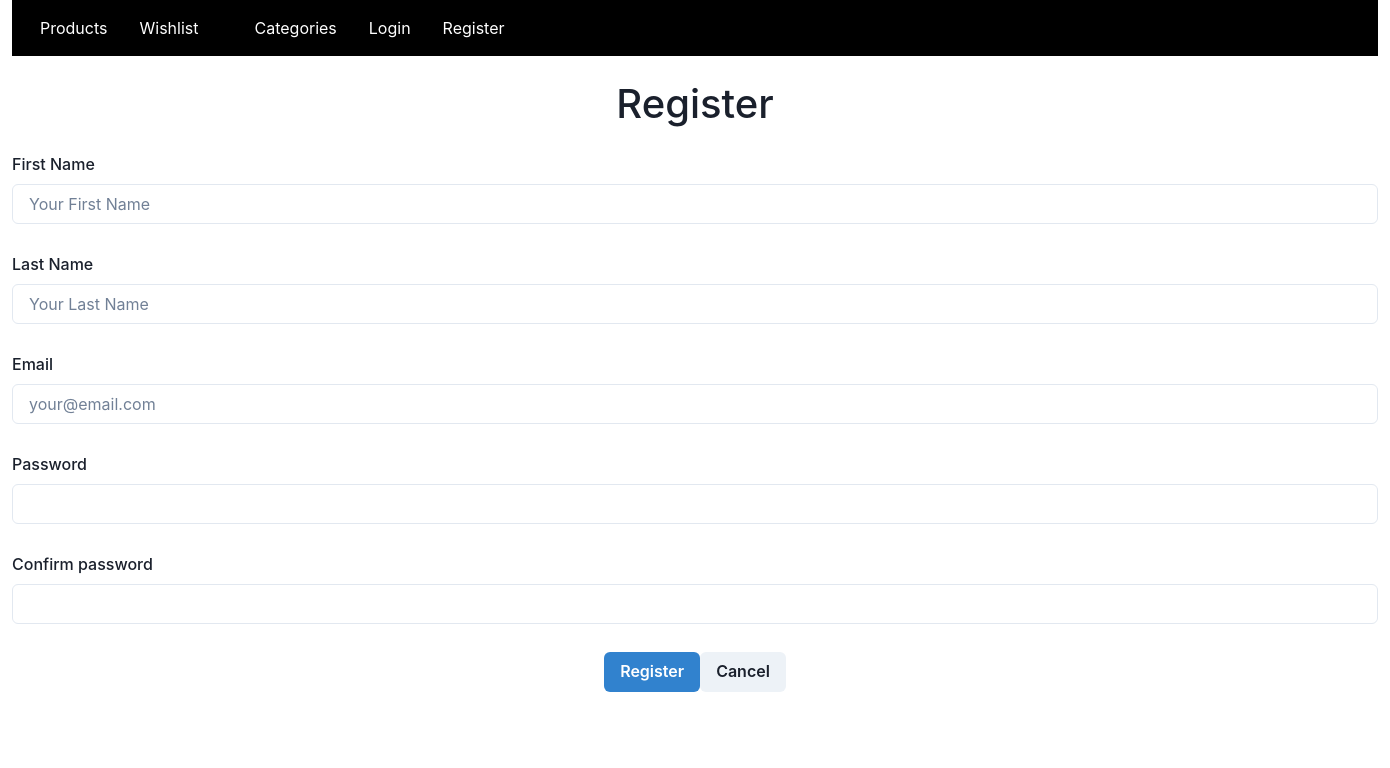
Test: Register › should throw error when user exists
Type "Test" into the field with test id "register_firstName".
click(695, 204); type("Test")  # box top-left (12, 184), bottom-right (1378, 224)
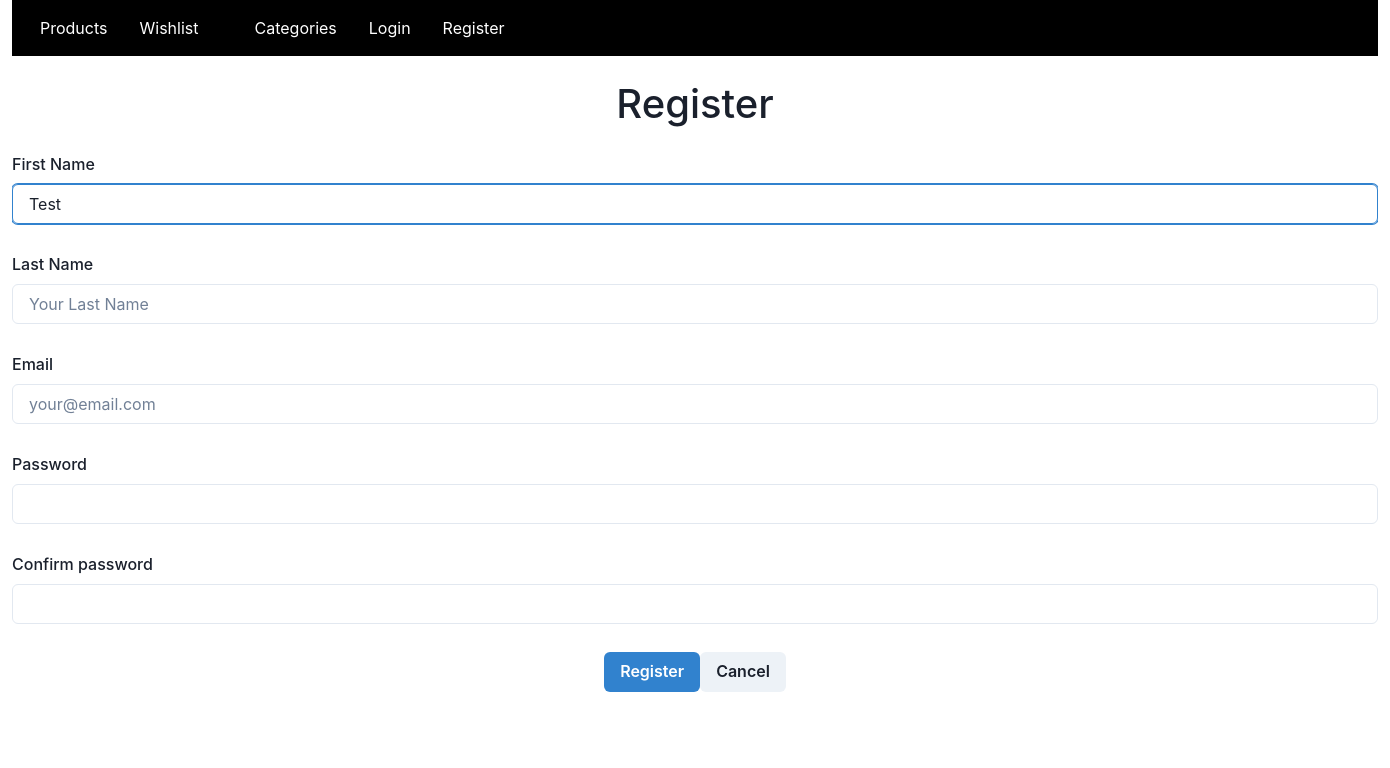
Type "User" into the field with test id "register_lastName".
click(695, 304); type("User")  # box top-left (12, 284), bottom-right (1378, 324)
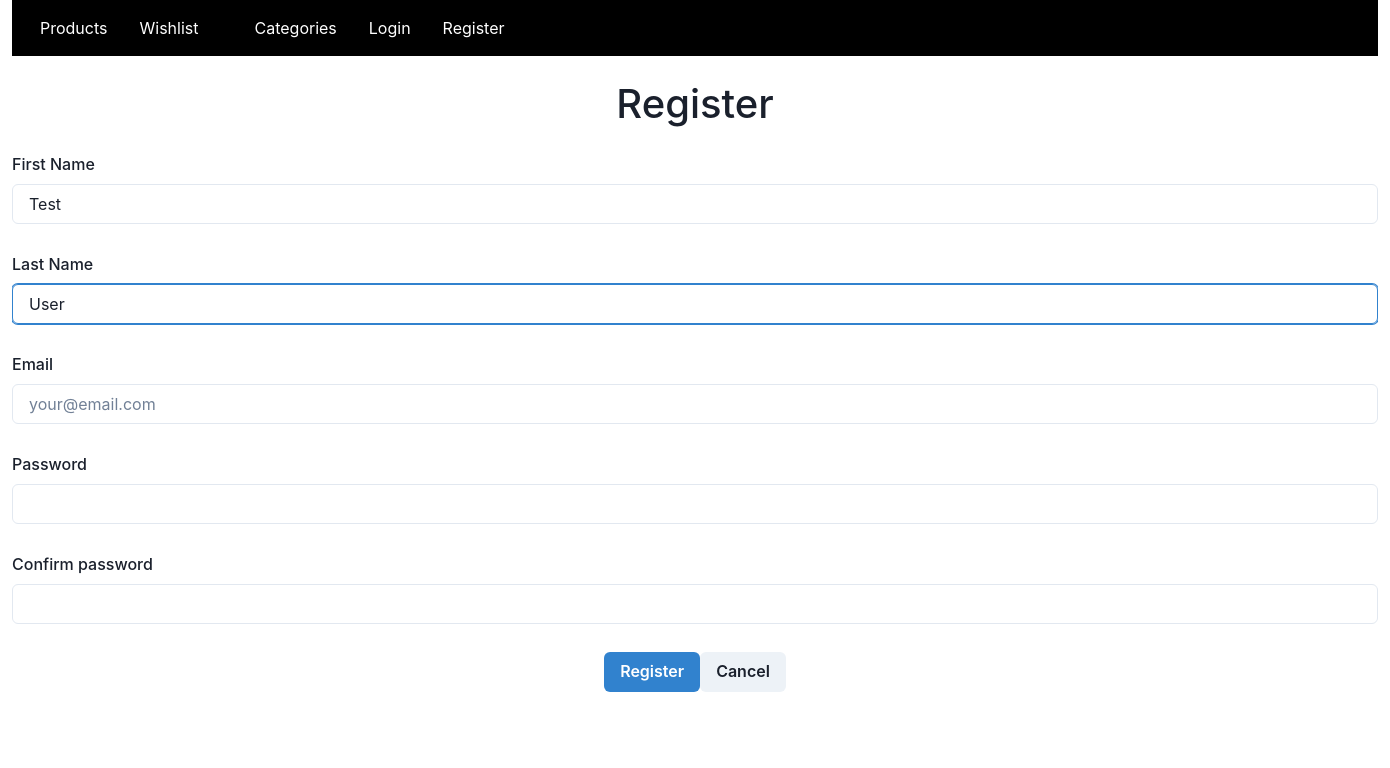
Type "david.deridder@student.hogent.be" into the field with test id "register_email".
click(695, 404); type("david.deridder@student.hogent.be")  # box top-left (12, 384), bottom-right (1378, 424)
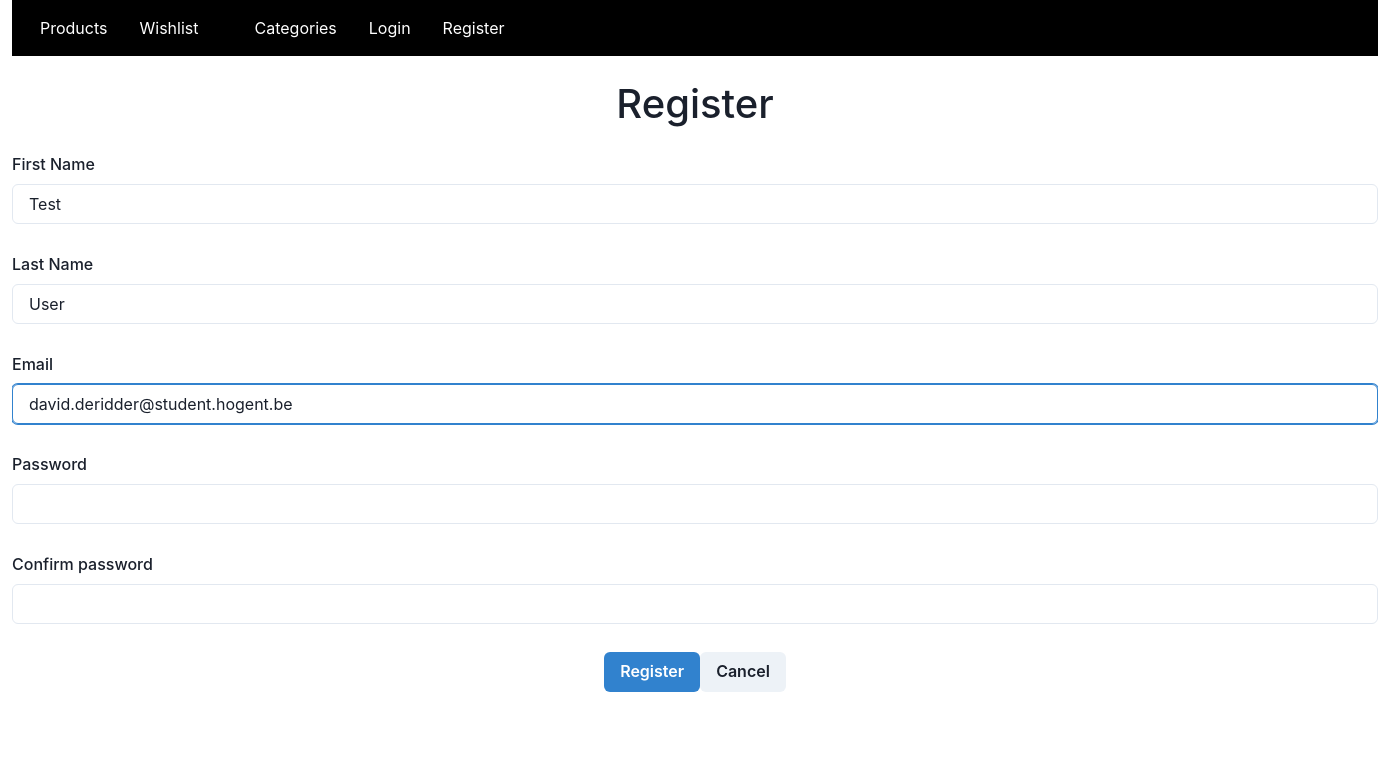
Type "12345678" into the password field with test id "register_password".
click(695, 504); type("12345678")  # box top-left (12, 484), bottom-right (1378, 524)
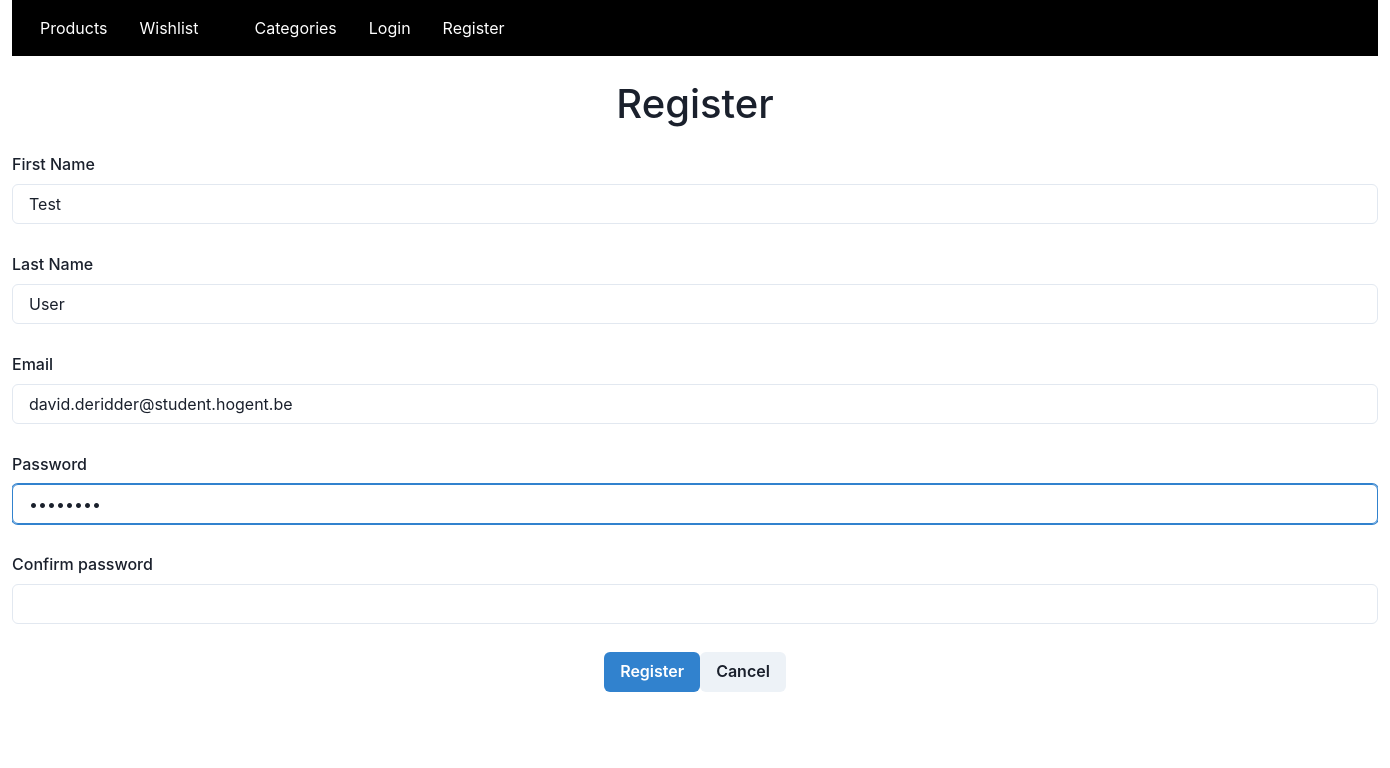
Type "12345678" into the password field with test id "register_confirm_password".
click(695, 604); type("12345678")  # box top-left (12, 584), bottom-right (1378, 624)
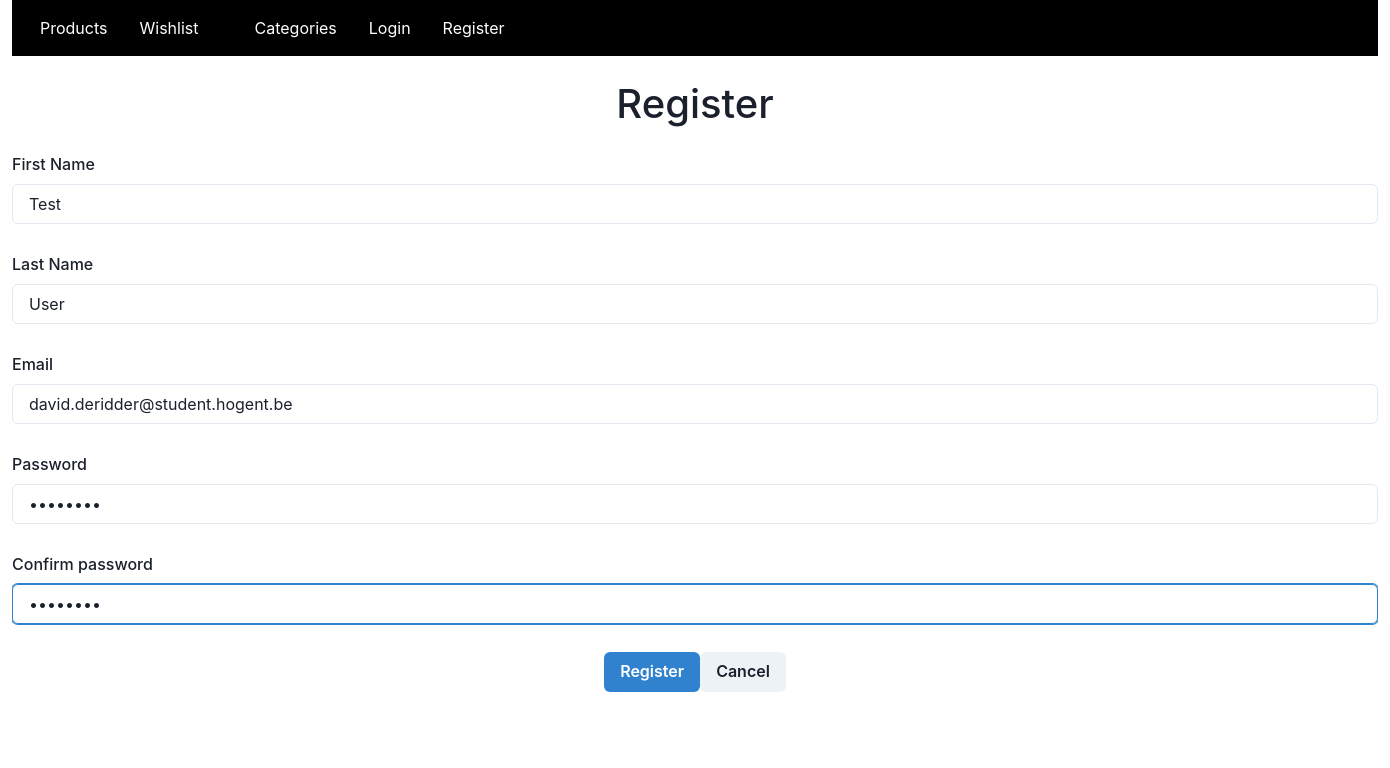
Click the button with test id "register_submit".
click(652, 672)  # box top-left (604, 652), bottom-right (700, 692)
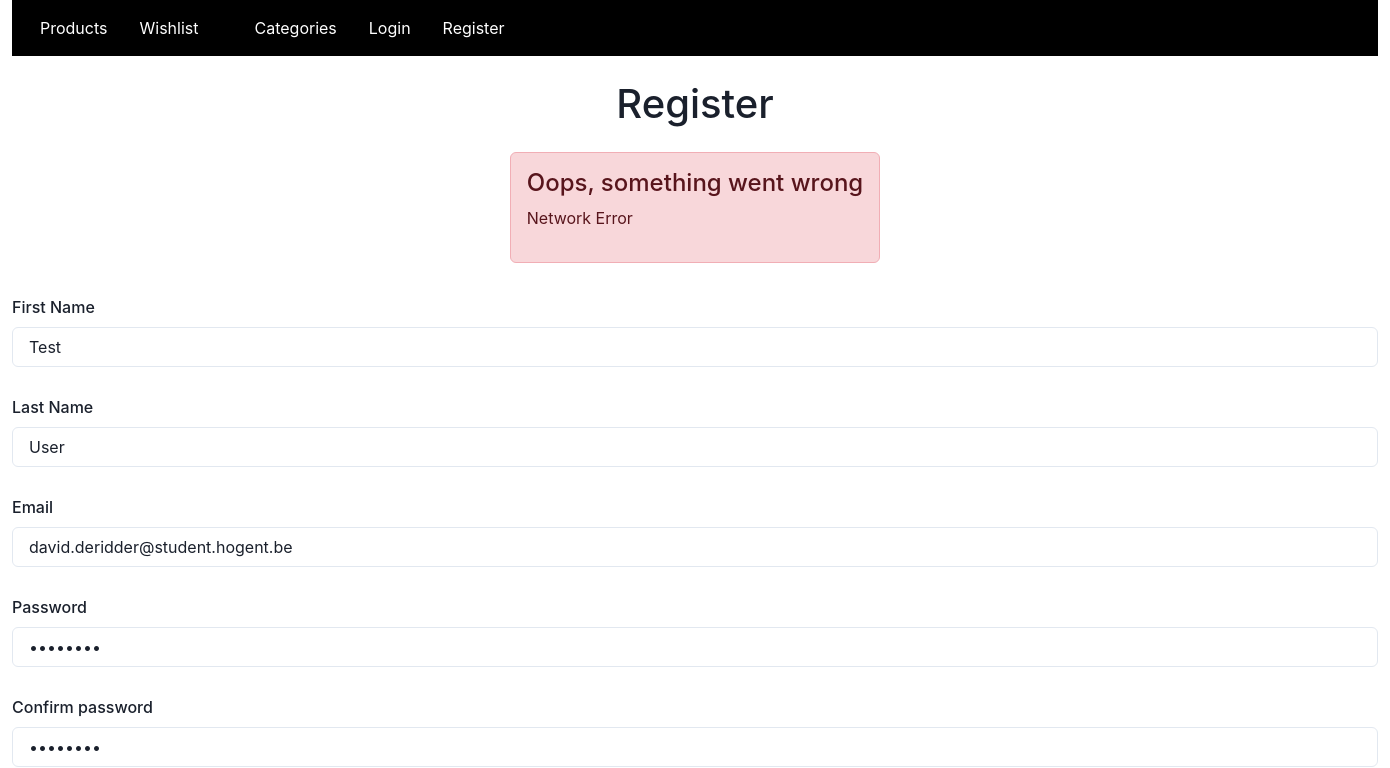
Expected: the element with test id "axios_error_message" is shown, top-left (510, 152), bottom-right (880, 263)
